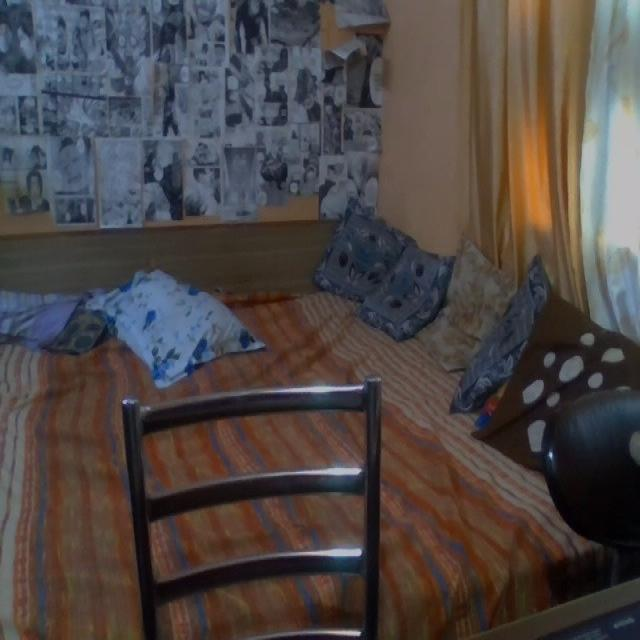away: (3, 1, 638, 640)
